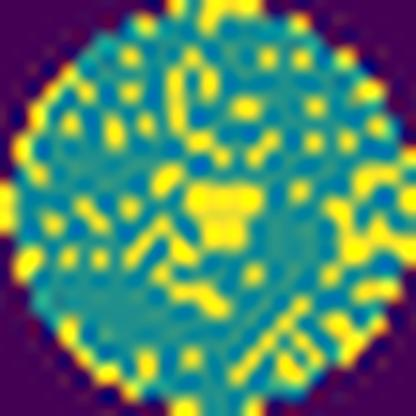Center: (115, 178, 266, 274)
